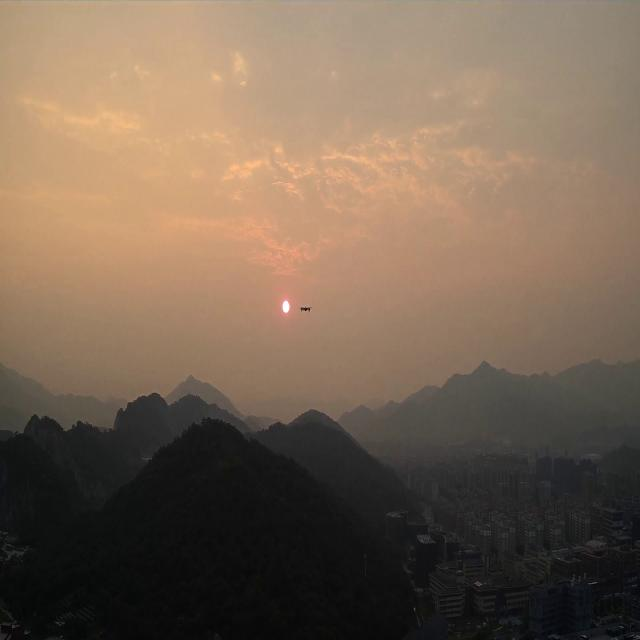UAV: (298, 305, 314, 313)
